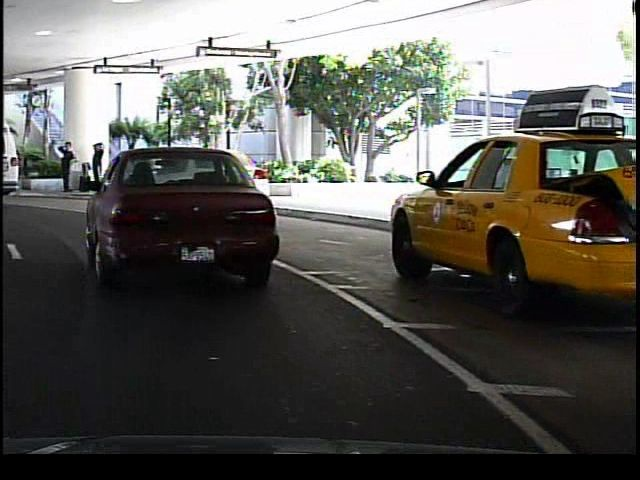person: (139, 143, 166, 196), (51, 140, 74, 198), (86, 140, 105, 190)
